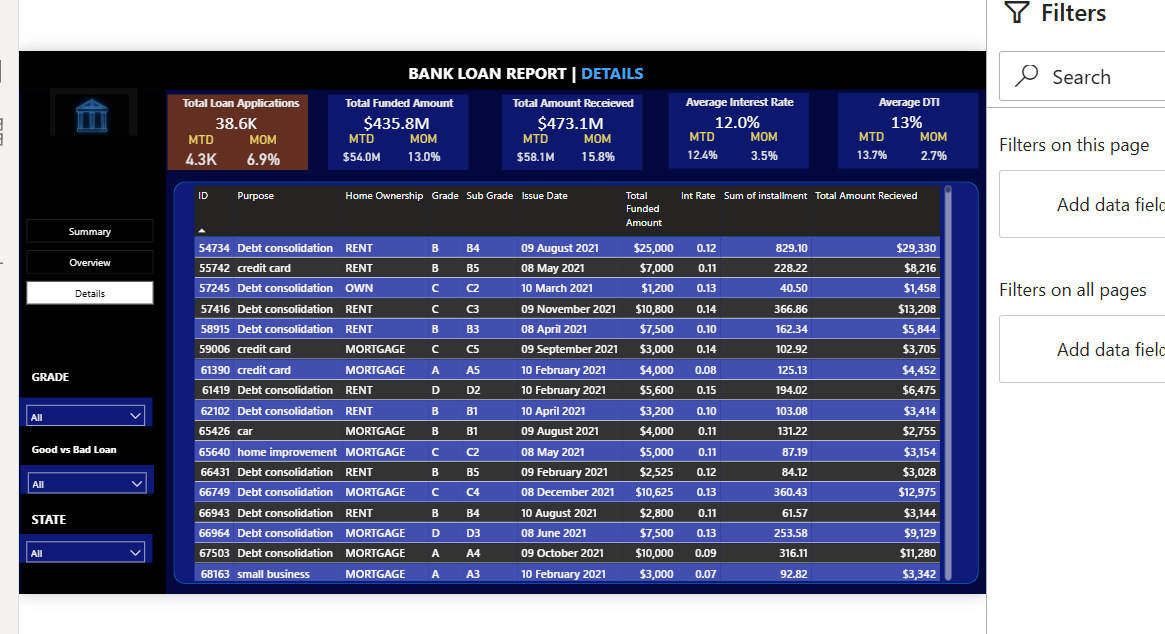

Layout of this report page (visuals, bound fields, positions):
{"tool":"powerbi","page":{"name":"Details","canvas":[1280,720],"ordinal":2},"visuals":[{"type":"shape","box":[0,0,1280.7,51.6],"z":0},{"type":"shape","box":[858.9,56.2,186.1,100.2],"z":0,"group":"g4"},{"type":"shape","box":[1083.2,56.2,186.1,100.2],"z":0,"group":"g5"},{"type":"shape","box":[408.8,57.8,186.1,100.2],"z":0,"group":"g2"},{"type":"shape","box":[639.4,57.8,186.1,100.2],"z":0,"group":"g3"},{"type":"shape","box":[197.2,58.9,186.1,100.2],"z":0,"group":"g1"},{"type":"textbox","box":[510.6,8,356.3,81.1],"z":1000},{"type":"group","id":"g1","title":"Group 1","box":[197.2,54.1,186.1,105],"z":2000},{"type":"shape","box":[205.2,171.8,1065.7,532.9],"z":3000},{"type":"group","id":"g2","title":"Group 1","box":[408.8,54.1,187.7,103.4],"z":4000},{"type":"card","fields":{"Values":["financial_loan.Average Interest Rate"]},"box":[858.9,56.2,181.3,74.8],"z":4000,"group":"g4"},{"type":"card","fields":{"Values":["financial_loan.Average DTI"]},"box":[1083.2,56.2,181.3,74.8],"z":4000,"group":"g5"},{"type":"card","fields":{"Values":["financial_loan.Total Funded Amount"]},"box":[408.8,57.8,181.3,74.8],"z":4000,"group":"g2"},{"type":"card","fields":{"Values":["financial_loan.Total Amount Recieved"]},"box":[639.4,57.8,181.3,74.8],"z":4000,"group":"g3"},{"type":"card","fields":{"Values":["financial_loan.Total Loan Applications"]},"box":[197.2,58.9,181.3,74.8],"z":4000,"group":"g1"},{"type":"textbox","box":[861.8,52.5,184.5,35],"z":5000,"group":"g4"},{"type":"textbox","box":[1086.1,52.5,184.5,35],"z":5000,"group":"g5"},{"type":"textbox","box":[205.2,54.1,178.1,35],"z":5000,"group":"g1"},{"type":"textbox","box":[411.7,54.1,184.5,35],"z":5000,"group":"g2"},{"type":"group","id":"g3","title":"Group 1","box":[639.4,54.1,187.7,103.4],"z":5000},{"type":"textbox","box":[642.3,54.1,184.5,35],"z":5000,"group":"g3"},{"type":"group","id":"g4","title":"Group 1","box":[858.9,52.5,187.7,103.4],"z":6000},{"type":"card","title":"MTD","fields":{"Values":["financial_loan.MTD Average Interest Rate"]},"box":[866.9,104.5,72.9,50.6],"z":6000,"group":"g4"},{"type":"card","title":"MTD","fields":{"Values":["financial_loan.MTD Average DTI"]},"box":[1091.2,104.5,72.9,50.6],"z":6000,"group":"g5"},{"type":"card","title":"MTD","fields":{"Values":["financial_loan.MTD Funded Amount"]},"box":[416.8,106.1,72.9,50.6],"z":6000,"group":"g2"},{"type":"card","title":"MTD","fields":{"Values":["financial_loan.MTD Total Amount Recieved"]},"box":[647.4,106.1,72.9,50.6],"z":6000,"group":"g3"},{"type":"card","title":"MTD","fields":{"Values":["financial_loan.MTD Loan Application"]},"box":[205.2,107.2,72.9,50.6],"z":6000,"group":"g1"},{"type":"group","id":"g5","title":"Group 1","box":[1083.2,52.5,187.7,103.4],"z":7000},{"type":"card","title":"MOM","fields":{"Values":["financial_loan.MOM Average Interest Rate"]},"box":[956.1,104.5,58.7,50.6],"z":7000,"group":"g4"},{"type":"card","title":"MOM","fields":{"Values":["financial_loan.MOM Average DTI"]},"box":[1180.4,104.5,58.7,50.6],"z":7000,"group":"g5"},{"type":"card","title":"MOM","fields":{"Values":["financial_loan.MOM Total Funded Amount"]},"box":[506,106.1,58.7,50.6],"z":7000,"group":"g2"},{"type":"card","title":"MOM","fields":{"Values":["financial_loan.MOM Total Amount Recieved"]},"box":[736.6,106.1,58.7,50.6],"z":7000,"group":"g3"},{"type":"card","title":"MOM","fields":{"Values":["financial_loan.MOM Loan Application"]},"box":[294.4,107.2,58.7,50.6],"z":7000,"group":"g1"},{"type":"shape","box":[1.6,50.9,192.5,669.6],"z":8000},{"type":"slicer","fields":{"Values":["financial_loan.address_state"]},"box":[0,639.4,176.6,38.2],"z":9000},{"type":"textbox","box":[12.7,602.8,76.3,36.6],"z":10000},{"type":"slicer","fields":{"Values":["financial_loan.Good vs Bad Loan"]},"box":[1.6,548.8,176.6,38.2],"z":11000},{"type":"slicer","fields":{"Values":["financial_loan.grade"]},"box":[0,458.1,176.6,38.2],"z":12000},{"type":"textbox","box":[12.7,512.2,122.5,36.6],"z":13000},{"type":"textbox","box":[12.7,415.1,122.5,42.9],"z":14000},{"type":"tableEx","fields":{"Values":["financial_loan.id","financial_loan.purpose","financial_loan.home_ownership","financial_loan.grade","financial_loan.sub_grade","financial_loan.issue_date","financial_loan.Total Funded Amount","financial_loan.int_rate","Sum(financial_loan.installment)","financial_loan.Total Amount Recieved"]},"box":[225.9,171.8,1013.2,532.9],"z":15000},{"type":"image","box":[36.6,0,125.7,160.7],"z":16000},{"type":"pageNavigator","box":[9.5,222.7,168.6,114.5],"z":17000}]}

Visuals, with their boxes on the page's 1280x720 design canvas (x1, y1, x2, y2). These are canvas units, not pixel positions in the 1165x634 screenshot, which may show the page scaled, cropped or inside an application window:
shape: pyautogui.locateOnScreen(0, 0, 1281, 52)
shape: pyautogui.locateOnScreen(859, 56, 1045, 156)
shape: pyautogui.locateOnScreen(1083, 56, 1269, 156)
shape: pyautogui.locateOnScreen(409, 58, 595, 158)
shape: pyautogui.locateOnScreen(639, 58, 826, 158)
shape: pyautogui.locateOnScreen(197, 59, 383, 159)
textbox: pyautogui.locateOnScreen(511, 8, 867, 89)
"Group 1" group: pyautogui.locateOnScreen(197, 54, 383, 159)
shape: pyautogui.locateOnScreen(205, 172, 1271, 705)
"Group 1" group: pyautogui.locateOnScreen(409, 54, 596, 158)
card - financial_loan.Average Interest Rate: pyautogui.locateOnScreen(859, 56, 1040, 131)
card - financial_loan.Average DTI: pyautogui.locateOnScreen(1083, 56, 1264, 131)
card - financial_loan.Total Funded Amount: pyautogui.locateOnScreen(409, 58, 590, 133)
card - financial_loan.Total Amount Recieved: pyautogui.locateOnScreen(639, 58, 821, 133)
card - financial_loan.Total Loan Applications: pyautogui.locateOnScreen(197, 59, 378, 134)
textbox: pyautogui.locateOnScreen(862, 52, 1046, 88)
textbox: pyautogui.locateOnScreen(1086, 52, 1271, 88)
textbox: pyautogui.locateOnScreen(205, 54, 383, 89)
textbox: pyautogui.locateOnScreen(412, 54, 596, 89)
"Group 1" group: pyautogui.locateOnScreen(639, 54, 827, 158)
textbox: pyautogui.locateOnScreen(642, 54, 827, 89)
"Group 1" group: pyautogui.locateOnScreen(859, 52, 1047, 156)
"MTD" card: pyautogui.locateOnScreen(867, 104, 940, 155)
"MTD" card: pyautogui.locateOnScreen(1091, 104, 1164, 155)
"MTD" card: pyautogui.locateOnScreen(417, 106, 490, 157)
"MTD" card: pyautogui.locateOnScreen(647, 106, 720, 157)
"MTD" card: pyautogui.locateOnScreen(205, 107, 278, 158)
"Group 1" group: pyautogui.locateOnScreen(1083, 52, 1271, 156)
"MOM" card: pyautogui.locateOnScreen(956, 104, 1015, 155)
"MOM" card: pyautogui.locateOnScreen(1180, 104, 1239, 155)
"MOM" card: pyautogui.locateOnScreen(506, 106, 565, 157)
"MOM" card: pyautogui.locateOnScreen(737, 106, 795, 157)
"MOM" card: pyautogui.locateOnScreen(294, 107, 353, 158)
shape: pyautogui.locateOnScreen(2, 51, 194, 720)
slicer - financial_loan.address_state: pyautogui.locateOnScreen(0, 639, 177, 678)
textbox: pyautogui.locateOnScreen(13, 603, 89, 639)
slicer - financial_loan.Good vs Bad Loan: pyautogui.locateOnScreen(2, 549, 178, 587)
slicer - financial_loan.grade: pyautogui.locateOnScreen(0, 458, 177, 496)
textbox: pyautogui.locateOnScreen(13, 512, 135, 549)
textbox: pyautogui.locateOnScreen(13, 415, 135, 458)
tableEx - financial_loan.id x financial_loan.purpose: pyautogui.locateOnScreen(226, 172, 1239, 705)
image: pyautogui.locateOnScreen(37, 0, 162, 161)
pageNavigator: pyautogui.locateOnScreen(10, 223, 178, 337)
